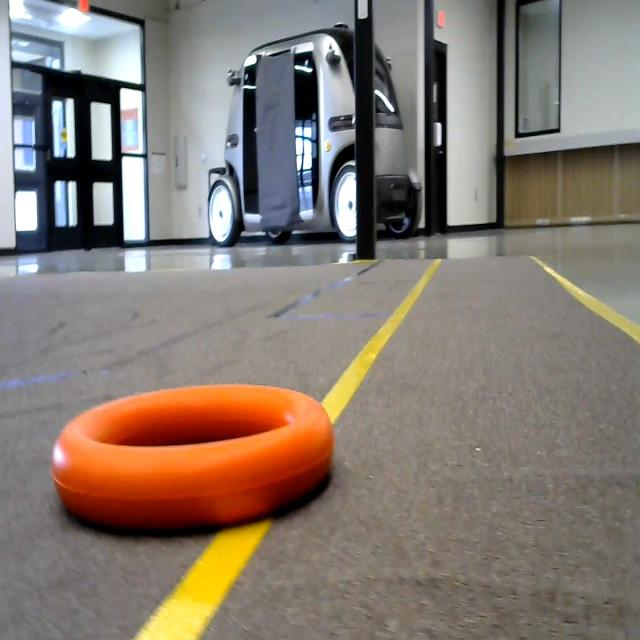note: (38, 389, 345, 526)
